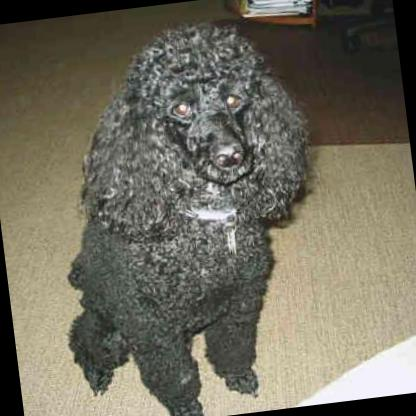miniature_poodle: (26, 7, 338, 416)
